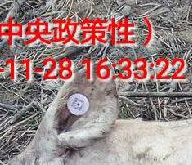text: (57, 86, 99, 122)
